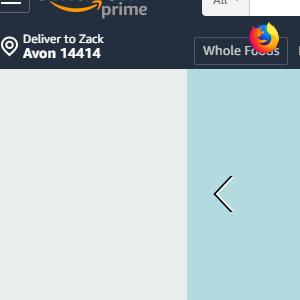firefox: (249, 22, 280, 53)
